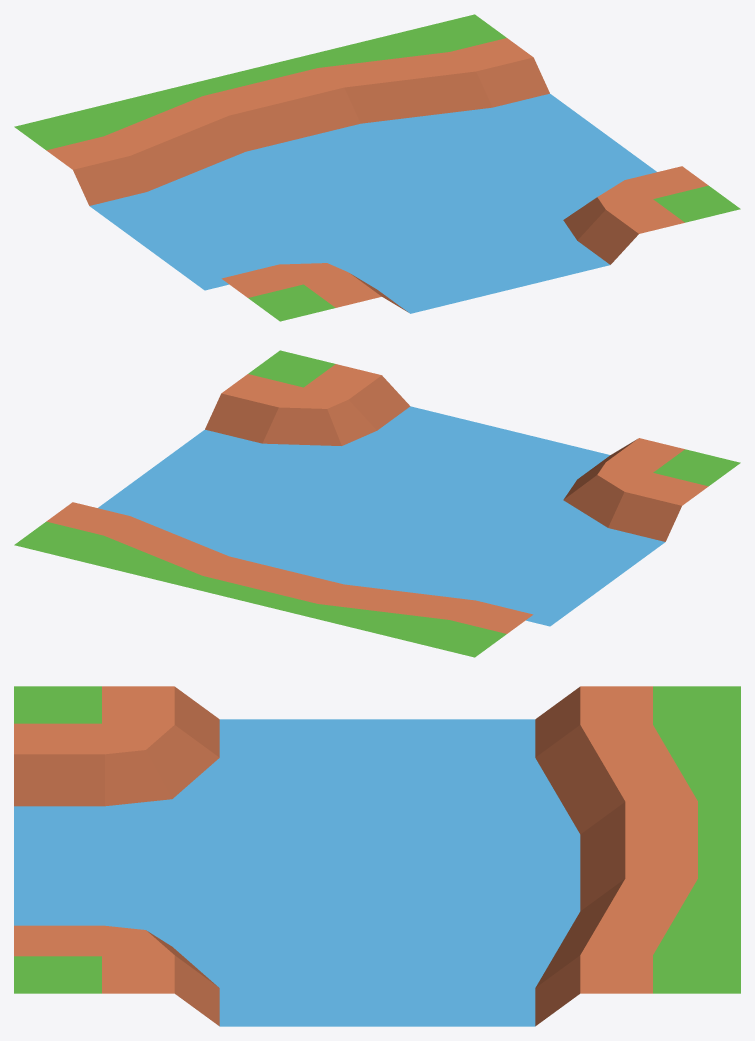
Rendered from ground_riverSplit.glb.
3 views of the same model, one above another, from view 1: azimuth 30°, elevation 25°; view 2: azimuth 150°, elevation 25°; view 3: azimuth 270°, elevation 25° (orthographic). The views are drawn at different scales.
Visible parts, largest first — view 1: ground_riverSplit; view 2: ground_riverSplit; view 3: ground_riverSplit.
Part boxes in pixels (box(x1,y1,x2,y2)): ground_riverSplit: box(14, 14, 740, 321); ground_riverSplit: box(14, 350, 740, 657); ground_riverSplit: box(14, 686, 740, 1026).
Size of the model in its own units: 1 by 0.05 by 1.
